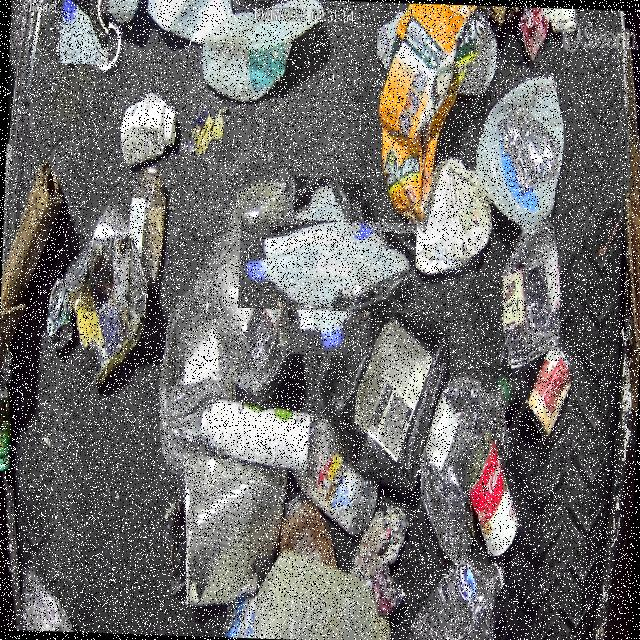milk-jug: (258, 196, 397, 334), (53, 0, 109, 64)
